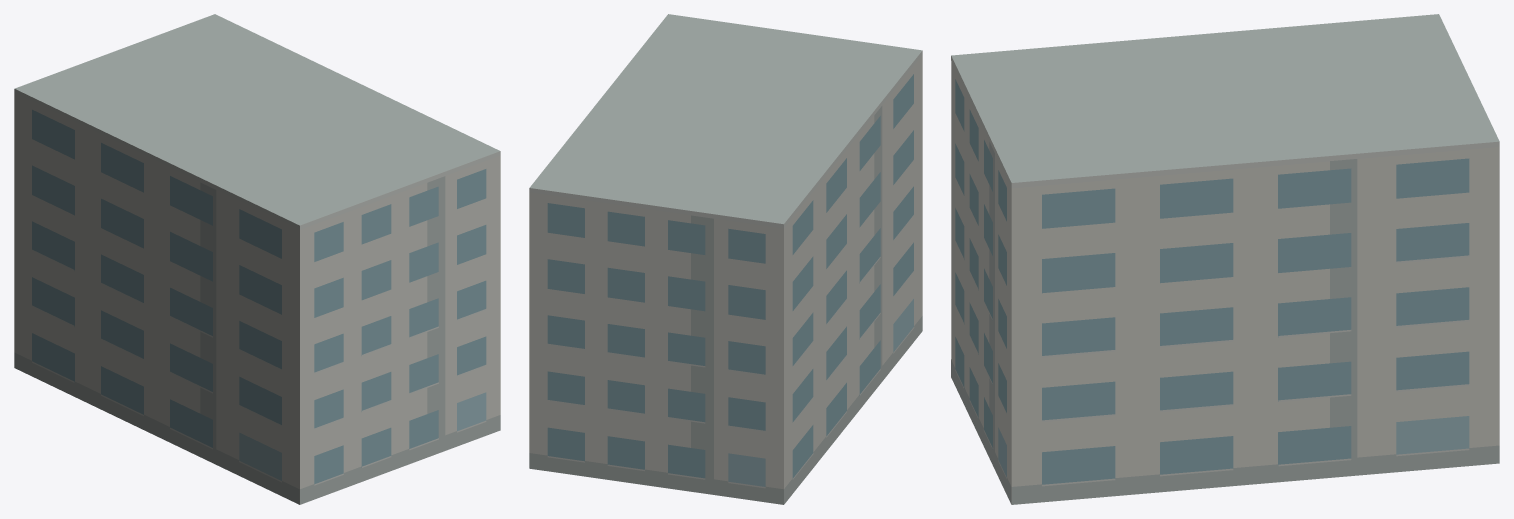
Rendered from residential-29e03f97-68af-4529-a124-f6d39ec7c959.glb.
The picture shows the model from 3 angles, left to right: view 1: azimuth 30°, elevation 25°; view 2: azimuth 150°, elevation 25°; view 3: azimuth 270°, elevation 25°; orthographic projection. The views are drawn at different scales.
Parts seen in each view (by area): view 1: residential-29e03f97-68af-4529-a124-f6d39ec7c959.tmp; view 2: residential-29e03f97-68af-4529-a124-f6d39ec7c959.tmp; view 3: residential-29e03f97-68af-4529-a124-f6d39ec7c959.tmp.
Boxes of the visible parts, x1,y1,x2,y2 form: residential-29e03f97-68af-4529-a124-f6d39ec7c959.tmp: [14, 14, 500, 504]; residential-29e03f97-68af-4529-a124-f6d39ec7c959.tmp: [529, 14, 922, 504]; residential-29e03f97-68af-4529-a124-f6d39ec7c959.tmp: [951, 14, 1499, 504].
Bounding box in the file's own units: 17.19 × 15.25 × 23.57.
